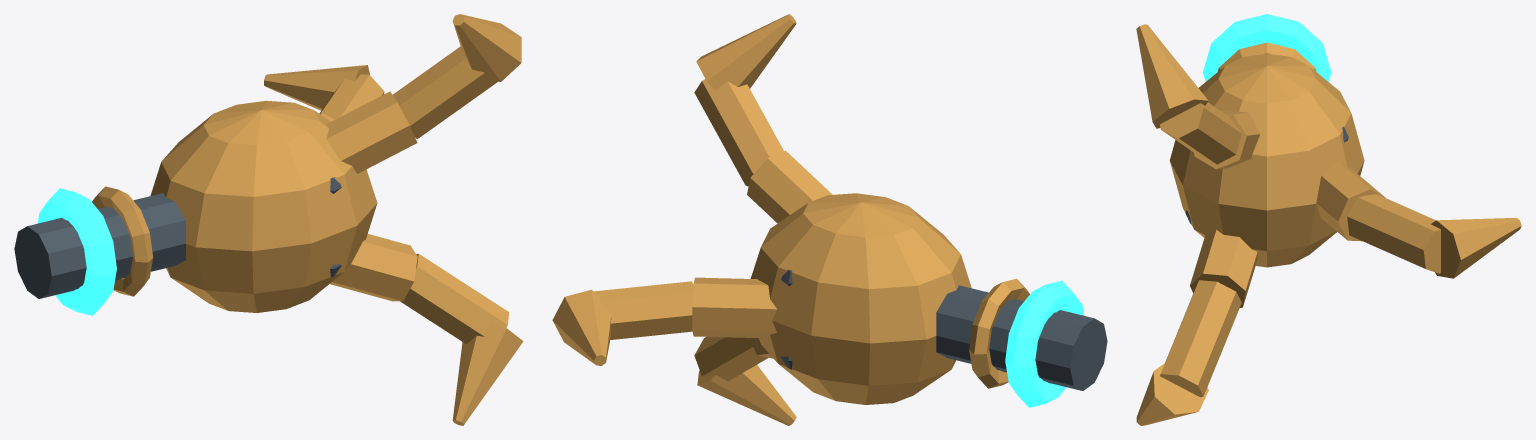
The model's file is pipes_grapple_hook.glb.
3 renders of one model, left to right at view 1: azimuth 30°, elevation 25°; view 2: azimuth 150°, elevation 25°; view 3: azimuth 270°, elevation 25°, orthographic. The views are drawn at different scales.
Parts seen in each view (by area): view 1: Hook_Brass, Hook_Gunmetal, Hook_Arc; view 2: Hook_Brass, Hook_Gunmetal, Hook_Arc; view 3: Hook_Brass, Hook_Arc.
Boxes of the visible parts, left/top/right/bottom form: Hook_Brass: left=92, top=14, right=523, bottom=425; Hook_Gunmetal: left=14, top=177, right=341, bottom=298; Hook_Arc: left=37, top=188, right=116, bottom=315; Hook_Brass: left=552, top=14, right=1029, bottom=425; Hook_Gunmetal: left=781, top=269, right=1107, bottom=390; Hook_Arc: left=1005, top=280, right=1084, bottom=407; Hook_Brass: left=1136, top=24, right=1521, bottom=425; Hook_Arc: left=1202, top=14, right=1331, bottom=81.
Bounding box in the file's own units: 1.42 × 1.27 × 1.11.
